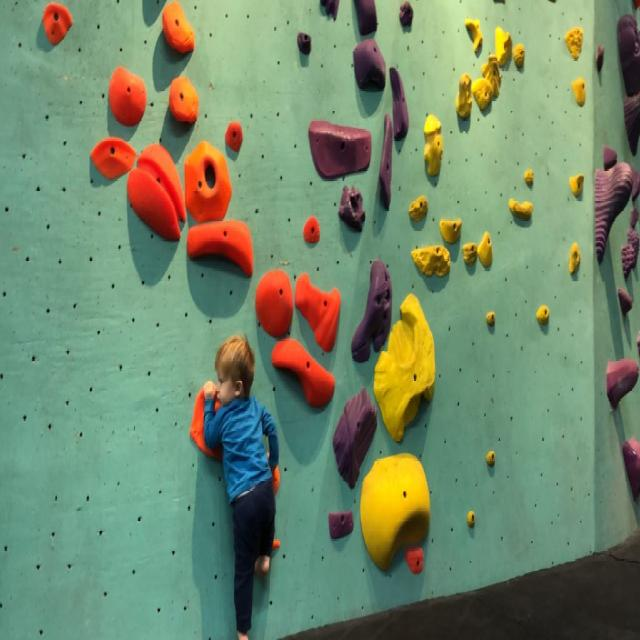orange: (126, 125, 190, 269), (291, 250, 347, 362), (272, 330, 336, 420), (180, 136, 238, 227), (184, 217, 258, 277), (101, 56, 150, 128), (254, 259, 294, 336), (163, 68, 208, 133), (152, 0, 196, 57), (41, 1, 78, 49), (400, 536, 433, 584), (290, 206, 324, 252), (223, 115, 249, 161)
purple: (342, 252, 399, 363), (302, 104, 373, 185), (326, 390, 383, 484), (350, 34, 388, 96), (387, 60, 412, 146), (318, 499, 362, 546), (336, 178, 370, 235), (380, 102, 393, 224), (295, 27, 316, 60), (395, 0, 415, 34)
yellow: (368, 282, 453, 449), (352, 453, 438, 566), (415, 108, 448, 186), (404, 239, 454, 283), (502, 188, 542, 231), (450, 68, 476, 130), (558, 18, 589, 68), (465, 73, 497, 114), (474, 223, 498, 274), (406, 180, 430, 230), (564, 71, 592, 113), (491, 26, 515, 72), (481, 58, 505, 104), (460, 16, 487, 56), (564, 236, 586, 281), (564, 163, 587, 203), (459, 231, 480, 273), (531, 296, 553, 336), (510, 39, 530, 74), (440, 215, 465, 243), (459, 500, 479, 534), (482, 437, 498, 473), (482, 307, 501, 337), (520, 167, 537, 194)
